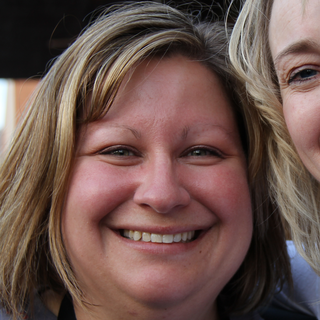eye: (92, 140, 143, 164), (177, 141, 228, 164), (289, 61, 319, 85)
